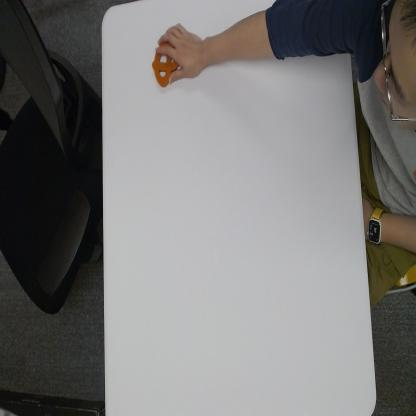Arm: (210, 0, 363, 67)
Hand: (154, 21, 210, 85)
Pretzel: (152, 41, 180, 87)
